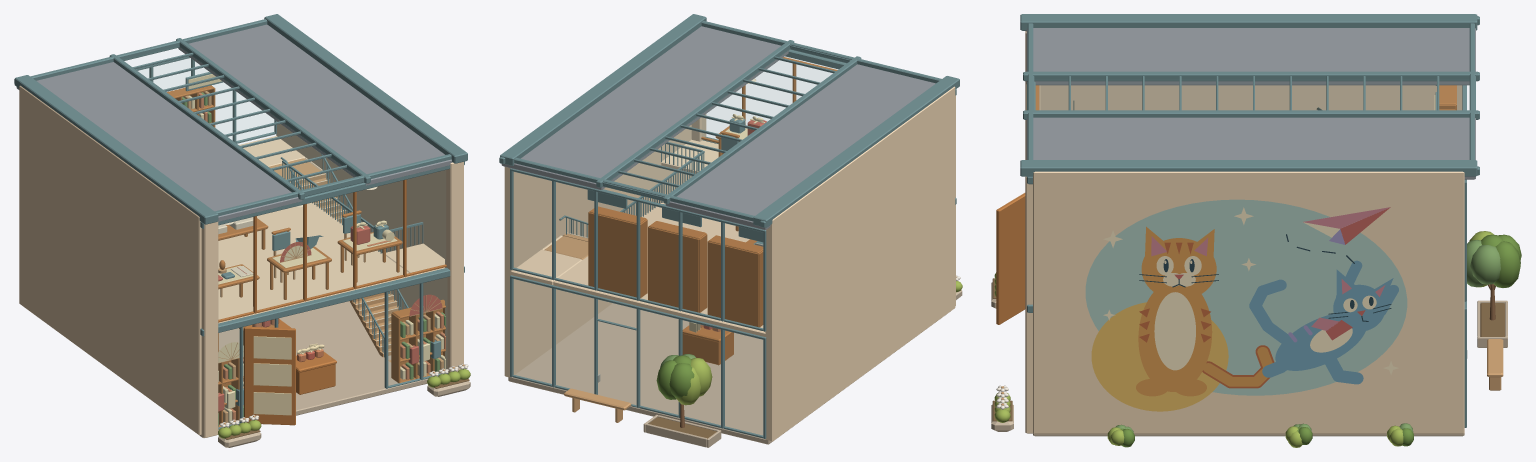
3 views of the same model, side by side, from view 1: azimuth 30°, elevation 25°; view 2: azimuth 150°, elevation 25°; view 3: azimuth 270°, elevation 25° (orthographic). The views are drawn at different scales.
Parts seen in each view (by area): view 1: A 两侧实墙, R 灰色平屋面, S 二层工作间楼板, A 入口厚柱, S 首层地面, R 宽边女儿墙, D 青灰楼层边框, R 天窗及屋缘竖边, R 屋面端边, I 工作桌, D 展示门画框, D 可转动主题展示门 (+20 smaller); view 2: A 两侧实墙, R 灰色平屋面, S 首层地面, I 货架背板, A 后院玻璃面, R 宽边女儿墙, R 天窗及屋缘竖边, R 屋面端边, S 二层工作间楼板, R 天窗横梁, L 乔木 · 枝干与树冠, I 格柜竖板 (+13 smaller); view 3: A 两侧实墙, R 灰色平屋面, D 原创猫猫墙绘 teal, R 宽边女儿墙, R 天窗及屋缘竖边, D 原创猫猫墙绘 orange, D 原创猫猫墙绘 blue, D 原创猫猫墙绘 yellow, D 原创猫猫墙绘 cream, D 可转动主题展示门, L 乔木 · 枝干与树冠, A 入口厚柱 (+11 smaller).
Boxes of the visible parts, x1,y1,x2,y2 form: A 两侧实墙: (19, 85, 444, 435); R 灰色平屋面: (16, 24, 452, 221); S 二层工作间楼板: (218, 202, 412, 323); A 入口厚柱: (201, 162, 463, 437); S 首层地面: (199, 301, 437, 437); R 宽边女儿墙: (14, 14, 467, 224); D 青灰楼层边框: (200, 161, 464, 336); R 天窗及屋缘竖边: (14, 38, 370, 199); R 屋面端边: (30, 19, 451, 216); I 工作桌: (218, 218, 402, 394); D 展示门画框: (253, 336, 291, 415); D 可转动主题展示门: (244, 326, 295, 425); A 两侧实墙: (504, 86, 955, 441); R 灰色平屋面: (501, 26, 935, 229); S 首层地面: (508, 303, 772, 444); I 货架背板: (589, 212, 758, 326); A 后院玻璃面: (510, 168, 766, 438); R 宽边女儿墙: (500, 14, 959, 227); R 天窗及屋缘竖边: (499, 40, 861, 227); R 屋面端边: (514, 20, 941, 221); S 二层工作间楼板: (553, 201, 767, 337); R 天窗横梁: (602, 45, 850, 198); L 乔木 · 枝干与树冠: (656, 354, 712, 427); I 格柜竖板: (588, 212, 763, 327); A 两侧实墙: (1033, 85, 1464, 433); R 灰色平屋面: (1026, 28, 1475, 179); D 原创猫猫墙绘 teal: (1085, 199, 1407, 395); R 宽边女儿墙: (1020, 14, 1477, 176); R 天窗及屋缘竖边: (1023, 16, 1479, 175); D 原创猫猫墙绘 orange: (1136, 226, 1272, 396); D 原创猫猫墙绘 blue: (1249, 260, 1398, 384); D 原创猫猫墙绘 yellow: (1091, 302, 1228, 411); D 原创猫猫墙绘 cream: (1103, 207, 1398, 374); D 可转动主题展示门: (996, 193, 1025, 324); L 乔木 · 枝干与树冠: (1467, 231, 1521, 320); A 入口厚柱: (1025, 31, 1040, 433).
Size of the model in its own units: 15.38 by 11.78 by 20.9.
